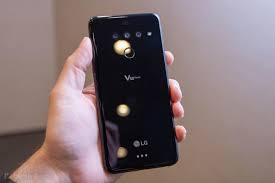lg: (88, 11, 181, 175)
